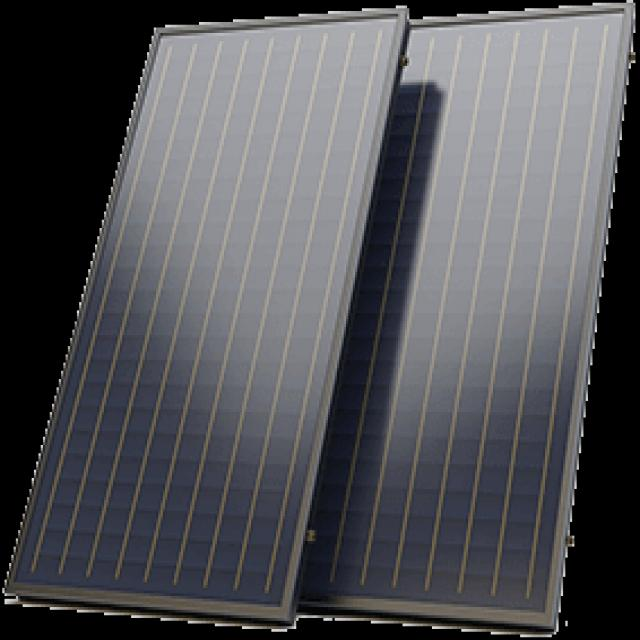no faulty: (5, 13, 399, 616), (303, 10, 624, 625)
